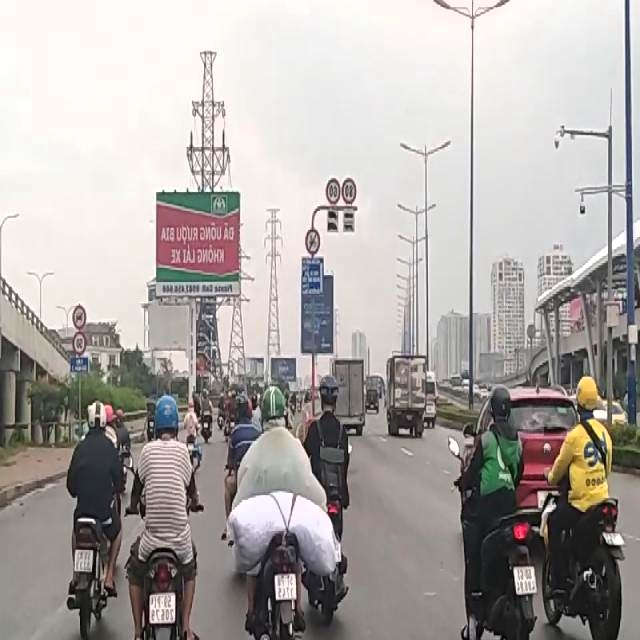P.103a: (73, 305, 87, 329)
P.104: (304, 226, 322, 256)
P.127*50: (72, 330, 86, 356)
P.127*60: (326, 179, 340, 205)
P.127*80: (342, 177, 358, 205)
